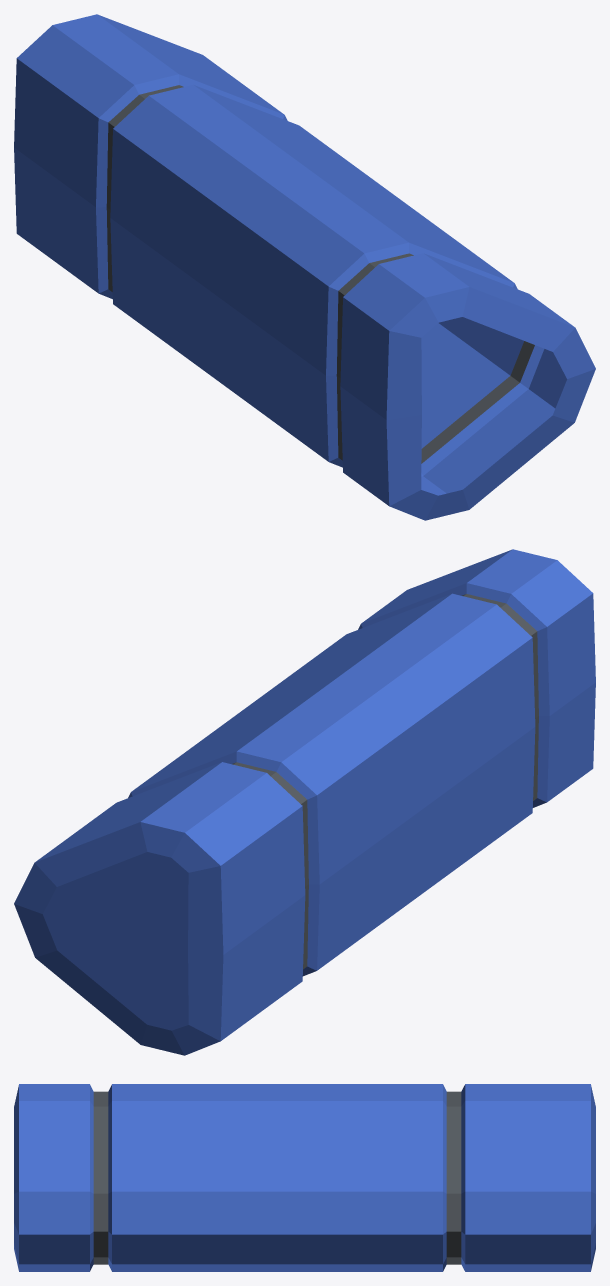
The model's file is Mothership_02_Thrust_Struts_Blue.fbx.
3 views of the same model, one above another, from view 1: azimuth 30°, elevation 25°; view 2: azimuth 150°, elevation 25°; view 3: azimuth 270°, elevation 25° (orthographic). The views are drawn at different scales.
Visible parts, largest first — view 1: Mothership_02_Thrust_Struts_Blue; view 2: Mothership_02_Thrust_Struts_Blue; view 3: Mothership_02_Thrust_Struts_Blue.
Part boxes in pixels (left/top/right/bottom): Mothership_02_Thrust_Struts_Blue: left=14, top=14, right=595, bottom=520; Mothership_02_Thrust_Struts_Blue: left=14, top=549, right=595, bottom=1055; Mothership_02_Thrust_Struts_Blue: left=14, top=1084, right=595, bottom=1271.
Size of the model in its own units: 400 by 407 by 1255.
1 material, 1 textured.
